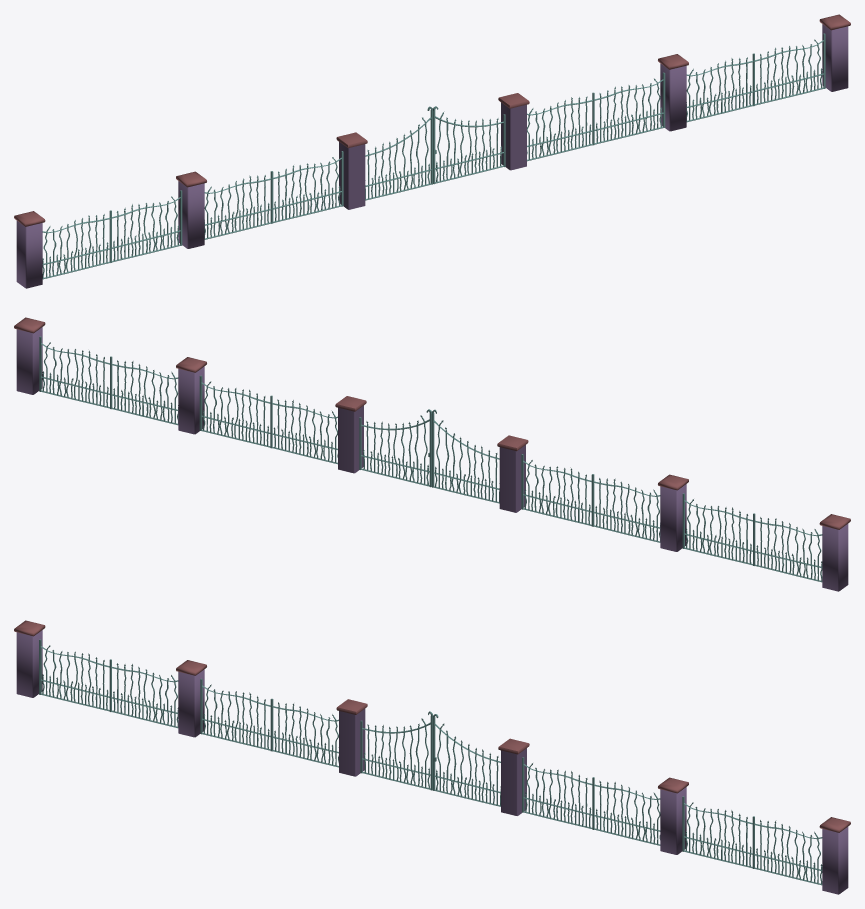
Rendered from Gates.fbx.
3 renders of one model, top to bottom at view 1: azimuth 30°, elevation 25°; view 2: azimuth 150°, elevation 25°; view 3: azimuth 330°, elevation 25°, orthographic.
Visible parts, largest first — view 1: Porte, Pilier.001, Pilier.002, Cloture, Cloture.003, Cloture.002, Cloture.001; view 2: Porte, Pilier.001, Pilier.002, Cloture, Cloture.003, Cloture.002, Cloture.001; view 3: Porte, Pilier.002, Pilier.001, Cloture, Cloture.002, Cloture.001, Cloture.003.
Boxes of the visible parts, bbox=[...] form: Porte: bbox=[336, 93, 529, 209]; Pilier.001: bbox=[14, 171, 206, 288]; Pilier.002: bbox=[658, 14, 850, 131]; Cloture: bbox=[204, 151, 343, 239]; Cloture.003: bbox=[527, 72, 665, 161]; Cloture.002: bbox=[686, 33, 825, 122]; Cloture.001: bbox=[42, 190, 182, 279]; Porte: bbox=[335, 396, 528, 512]; Pilier.001: bbox=[658, 474, 850, 591]; Pilier.002: bbox=[14, 317, 206, 434]; Cloture: bbox=[521, 454, 660, 542]; Cloture.003: bbox=[199, 375, 337, 464]; Cloture.002: bbox=[39, 336, 178, 425]; Cloture.001: bbox=[682, 493, 822, 582]; Porte: bbox=[336, 699, 529, 815]; Pilier.002: bbox=[658, 777, 850, 894]; Pilier.001: bbox=[14, 620, 206, 737]; Cloture: bbox=[200, 678, 338, 767]; Cloture.002: bbox=[682, 796, 822, 885]; Cloture.001: bbox=[39, 639, 178, 728]; Cloture.003: bbox=[522, 757, 660, 845].
Bounding box in the file's own units: 2320 × 211 × 55.9.
